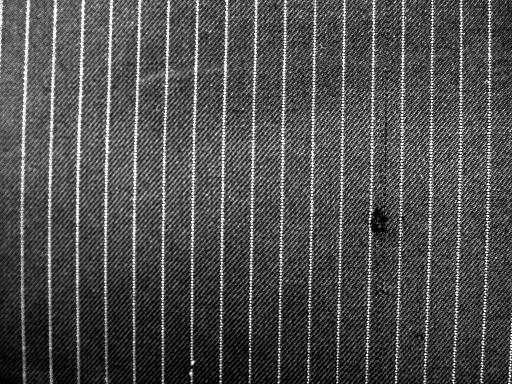fabric_hole: (344, 171, 404, 237), (357, 199, 400, 239)
